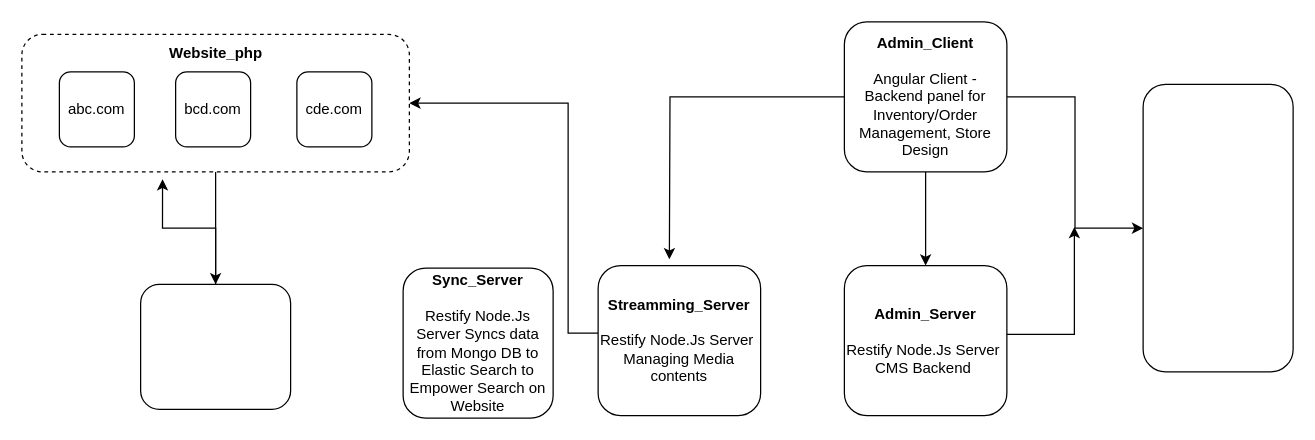
Image size: 1315x440. Some labels were removed from this diagram. Each missing label, with the centre of its shape:
API Endpoints for Logistics. This is Not Part of this Project: point (1217, 227)
Website_Server Restify Node.Js Server Serving Data to Websites for each Client: point (215, 346)
